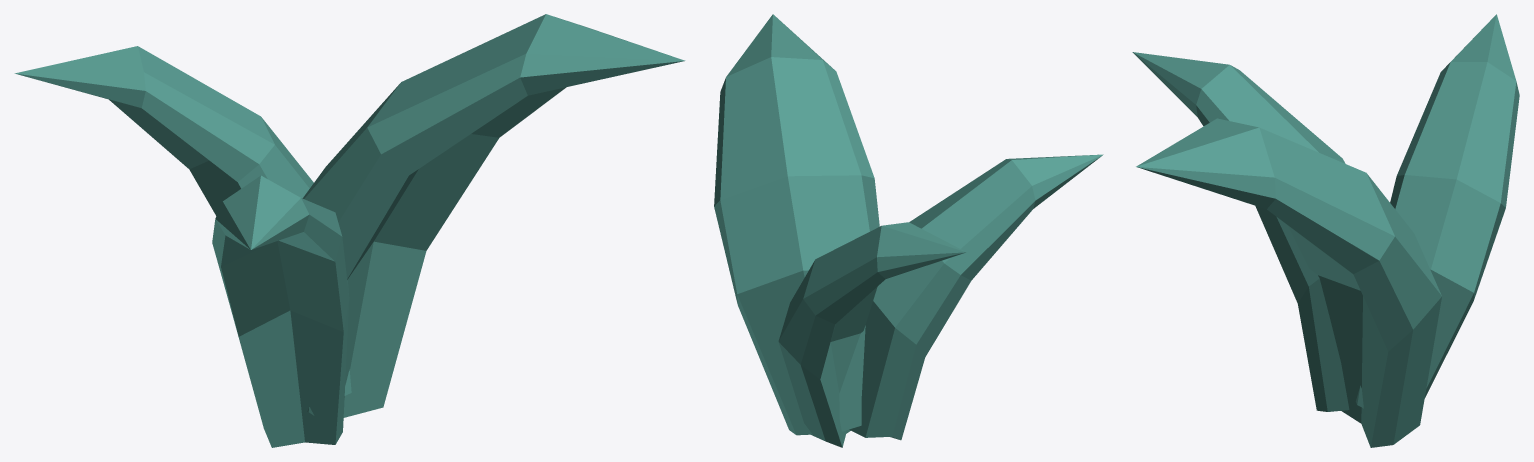
Rendered from Plant_3.fbx.
The picture shows the model from 3 angles, left to right: view 1: azimuth 30°, elevation 25°; view 2: azimuth 150°, elevation 25°; view 3: azimuth 270°, elevation 25°; orthographic projection. The views are drawn at different scales.
Parts seen in each view (by area): view 1: Plant_3; view 2: Plant_3; view 3: Plant_3.
Part boxes in pixels (x1,y1,x2,y2): Plant_3: (14, 14, 685, 447); Plant_3: (714, 14, 1103, 447); Plant_3: (1132, 14, 1519, 447).
Bounding box in the file's own units: 0.7796 × 0.6694 × 0.6471.
